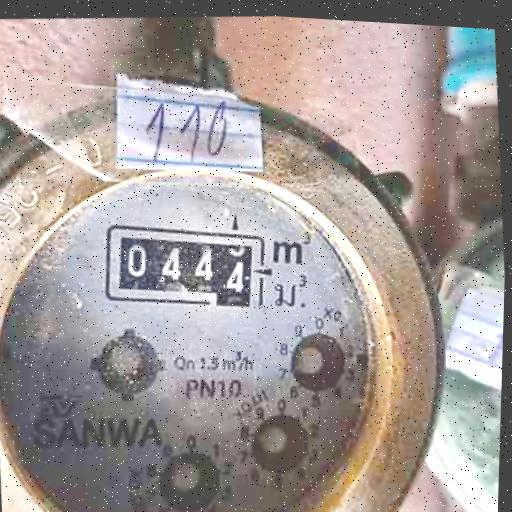0: (116, 233, 160, 293)
4: (213, 241, 257, 310), (151, 236, 193, 294), (185, 239, 222, 294)
border_water_meter_number: (100, 211, 270, 318)
